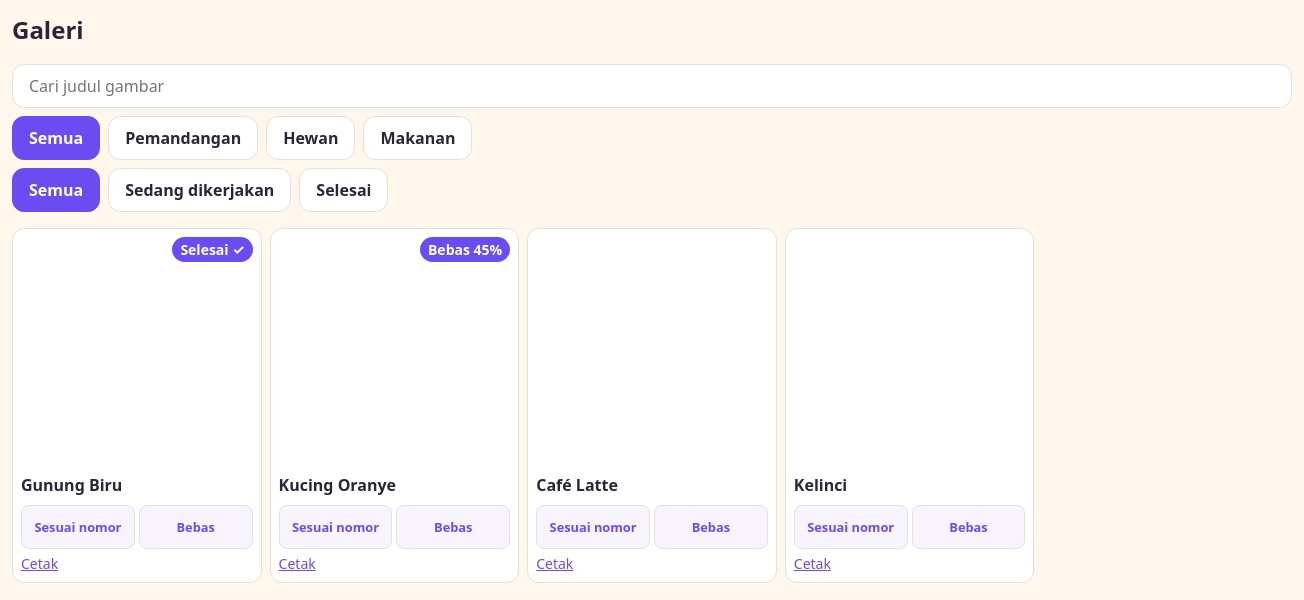
Test: GalleryPage › filters by category via toggle buttons
This screenshot has width=1304, height=600.
Check: the text "Kelinci" is shown, box [794,474,847,496]
Click the button "Hewan".
click(311, 138)  # box [266,116,356,160]
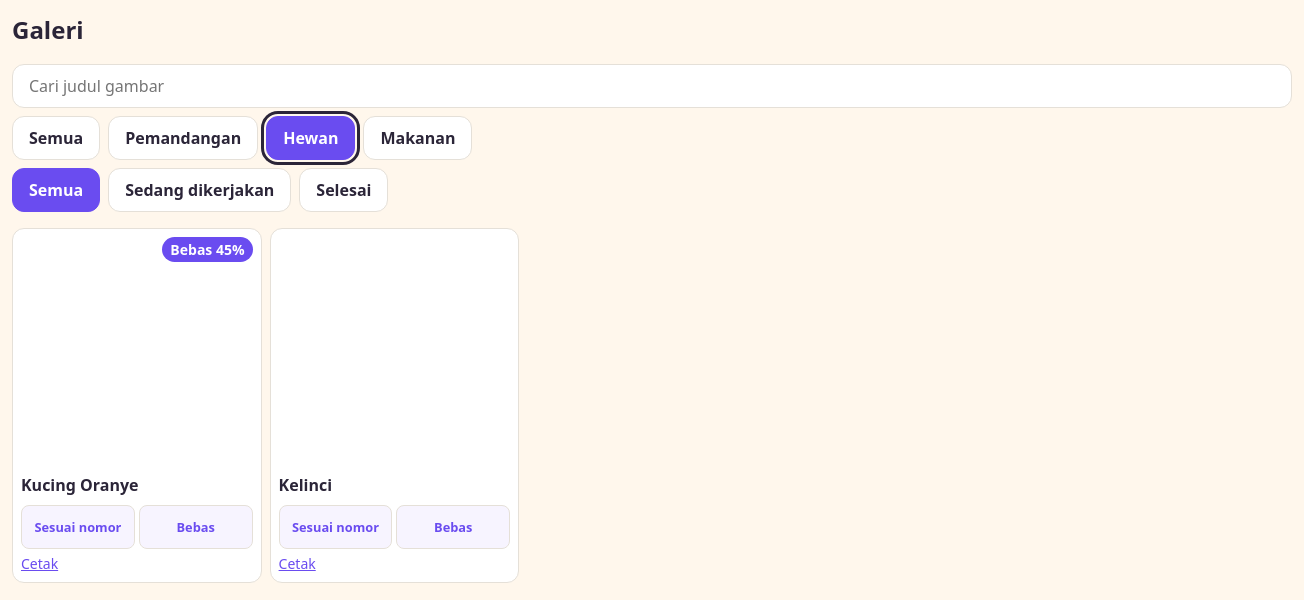
Check: the link "Gunung Biru" is gone
Check: the number of list items is 2, box [12,228,262,583]; [270,228,519,583]
